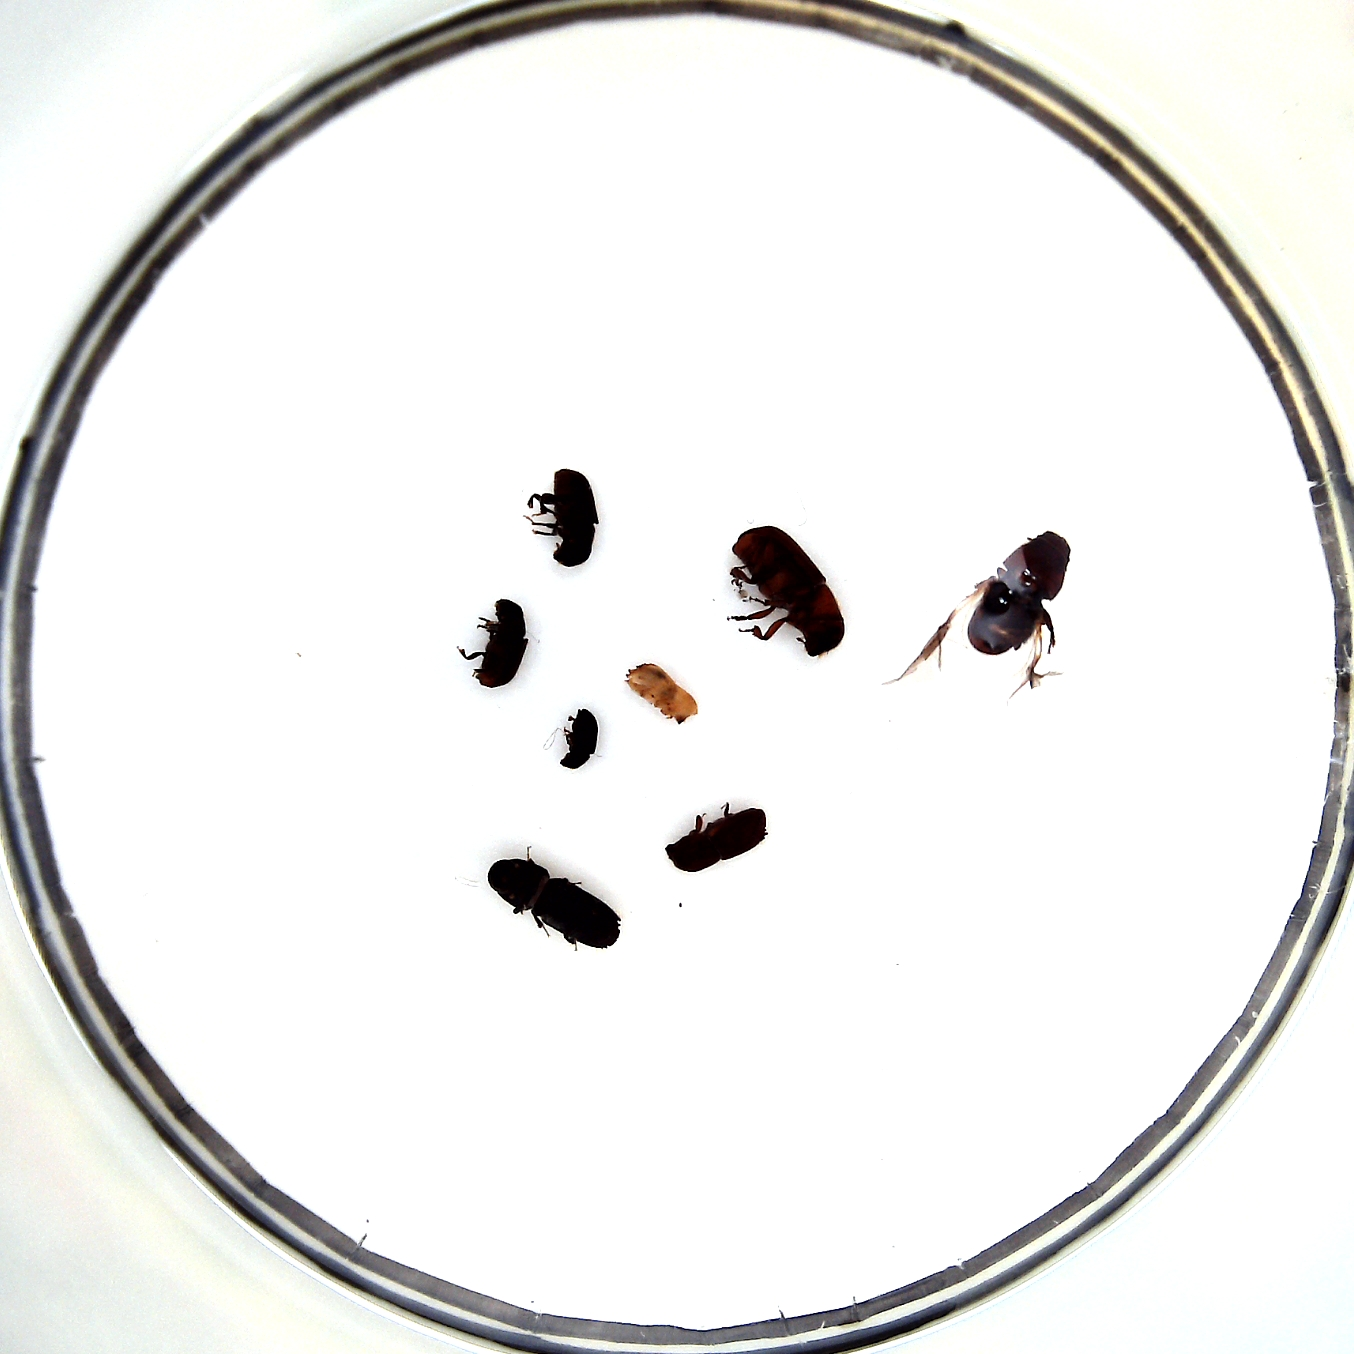Boerner: (486, 858, 621, 951)
Leconte: (733, 524, 844, 658), (966, 528, 1071, 658)
acuminatus: (555, 708, 599, 768)
armandi: (472, 596, 527, 689), (551, 470, 599, 568)
coleoptera: (626, 661, 699, 724)
linnaeus: (665, 805, 768, 870)
